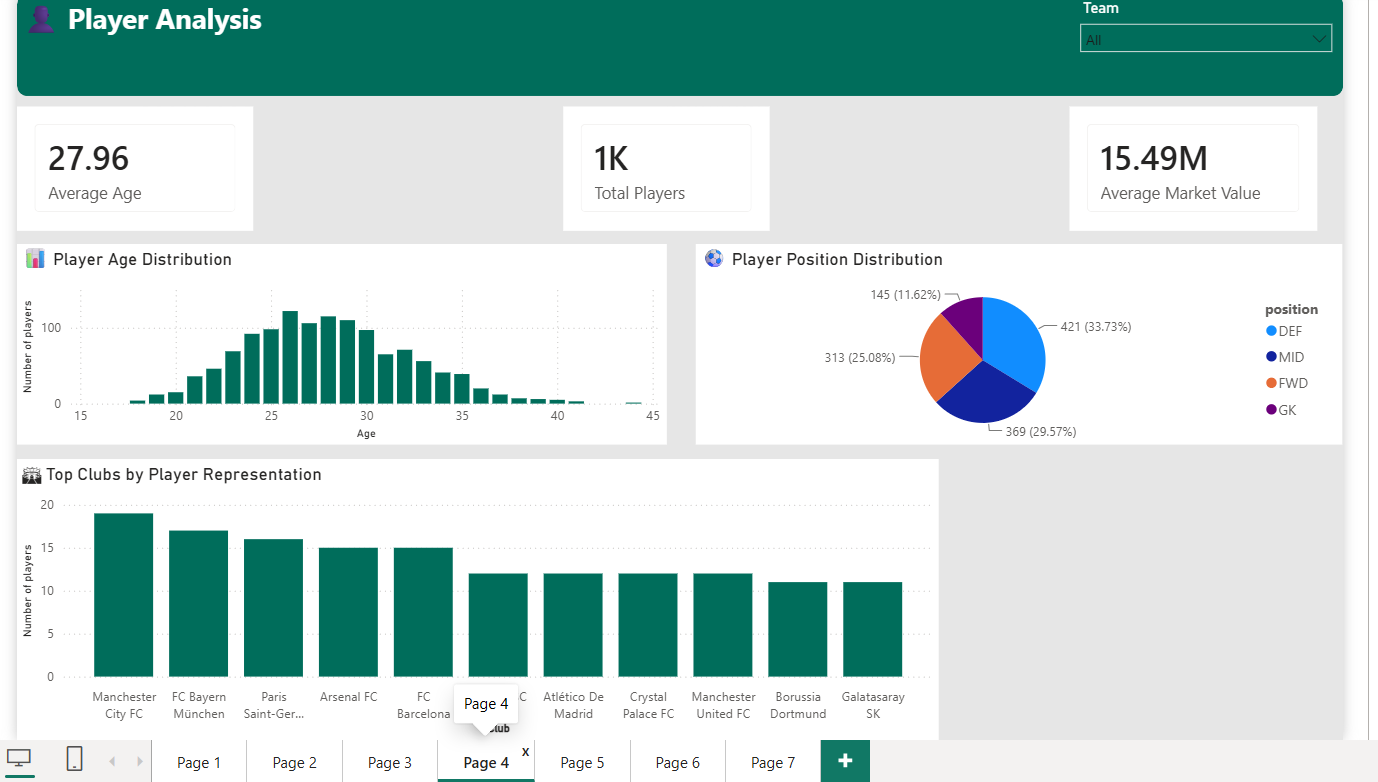

The dashboard page shown, as its layout file describes it:
{"tool":"powerbi","page":{"name":"Page 4","canvas":[1280,720],"ordinal":3},"visuals":[{"type":"shape","box":[0,0,1280,98.7],"z":0},{"type":"slicer","fields":{"Values":["teams.team_name"]},"box":[1016.3,0,263.7,98.4],"z":1000},{"type":"clusteredColumnChart","title":"📊 Player Age Distribution","fields":{"Category":["squads_and_players.Age"],"Y":["Count(squads_and_players.player_id)"]},"box":[0,240.9,627.2,193.9],"z":2000},{"type":"columnChart","title":"🏟 Top Clubs by Player Representation","fields":{"Category":["squads_and_players.club_team"],"Y":["Count(squads_and_players.player_id)"]},"box":[0,449,889.4,270.8],"z":3000},{"type":"pieChart","title":"⚽ Player Position Distribution","fields":{"Category":["squads_and_players.position"],"Y":["Count(squads_and_players.player_id)"]},"box":[655.7,240.9,624.3,193.9],"z":4000},{"type":"textbox","box":[0,0,414.8,98.4],"z":5000},{"type":"cardVisual","fields":{"Data":["player_stats.Total Players"]},"box":[527.4,108.3,199.6,119.7],"z":6000},{"type":"cardVisual","fields":{"Data":["squads_and_players.Average Market Value"]},"box":[1016.3,108.3,239.5,119.7],"z":7000},{"type":"cardVisual","fields":{"Data":["Avg(squads_and_players.Age)"]},"box":[0,108.3,228.1,119.7],"z":8000}]}

Visuals, with their boxes on the page's 1280x720 design canvas (x1, y1, x2, y2). These are canvas units, not pixel positions in the 1378x782 screenshot, which may show the page scaled, cropped or inside an application window:
shape: select_region(0, 0, 1280, 99)
slicer - teams.team_name: select_region(1016, 0, 1280, 98)
"📊 Player Age Distribution" clusteredColumnChart: select_region(0, 241, 627, 435)
"🏟 Top Clubs by Player Representation" columnChart: select_region(0, 449, 889, 720)
"⚽ Player Position Distribution" pieChart: select_region(656, 241, 1280, 435)
textbox: select_region(0, 0, 415, 98)
cardVisual - player_stats.Total Players: select_region(527, 108, 727, 228)
cardVisual - squads_and_players.Average Market Value: select_region(1016, 108, 1256, 228)
cardVisual - Avg(squads_and_players.Age): select_region(0, 108, 228, 228)
